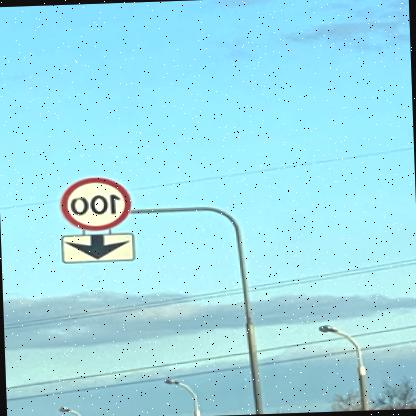speedlimit: (61, 174, 135, 232)
